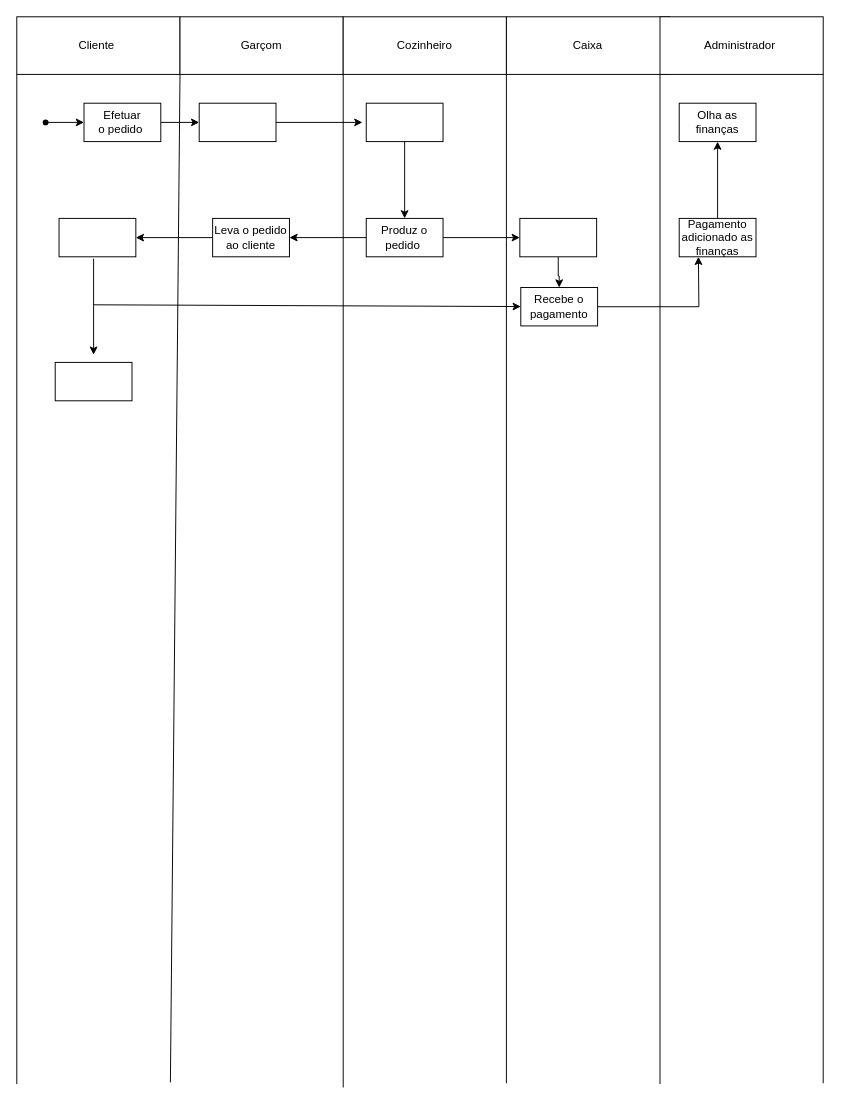
Some shapes in this 841 by 1106 pixel diagram are drawn without their labels. The centre of each missing label's shape, as x and y in pixels:
"Acessa o pedido" belongs at pixel 404 122.
"Anotar o pedido" belongs at pixel 237 122.
"Avalia o pedido" belongs at pixel 93 381.
"Consome o pedido" belongs at pixel 97 237.
"Entrega de pedido" belongs at pixel 558 237.
